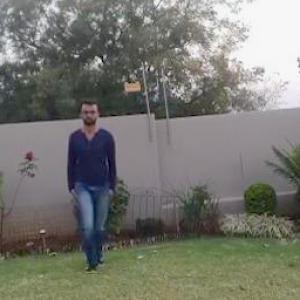follow: (66, 98, 123, 265)
